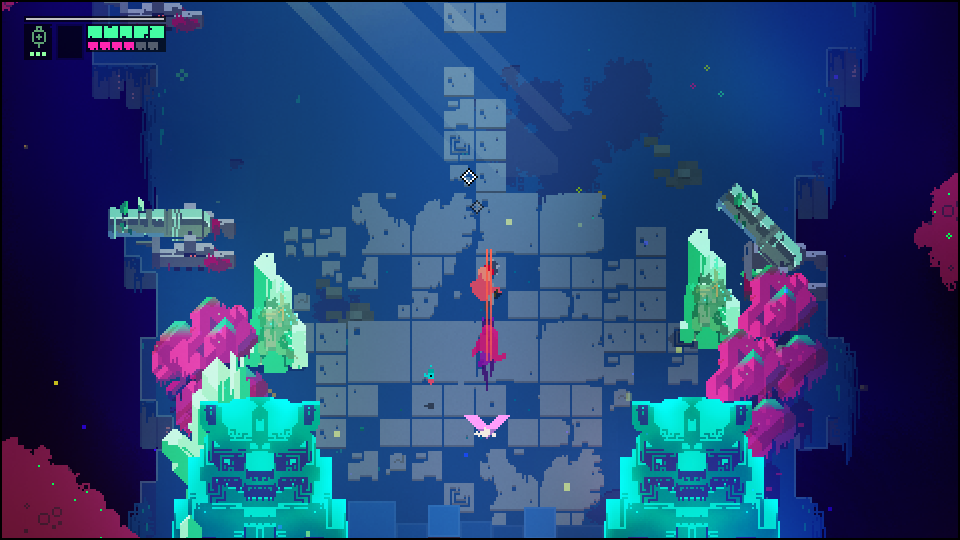player: (468, 262, 502, 305)
